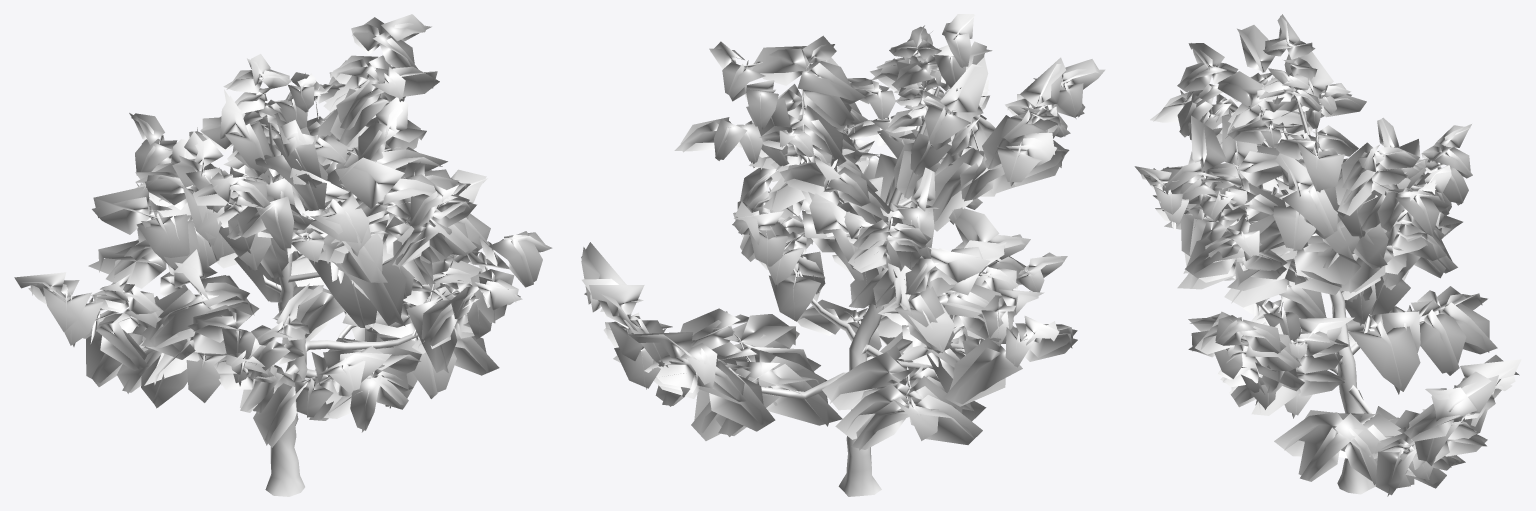
The model's file is oak_big_2.glb.
The picture shows the model from 3 angles, left to right: view 1: azimuth 30°, elevation 25°; view 2: azimuth 150°, elevation 25°; view 3: azimuth 270°, elevation 25°; orthographic projection. The views are drawn at different scales.
Visible parts, largest first — view 1: Big_oak_tree__001_LOD1; view 2: Big_oak_tree__001_LOD1; view 3: Big_oak_tree__001_LOD1.
Boxes of the visible parts, x1,y1,x2,y2 form: Big_oak_tree__001_LOD1: (14,14,552,496); Big_oak_tree__001_LOD1: (581,14,1105,496); Big_oak_tree__001_LOD1: (1134,14,1521,496).
Size of the model in its own units: 20.51 by 19.46 by 15.65.
2 materials, 2 textured.
